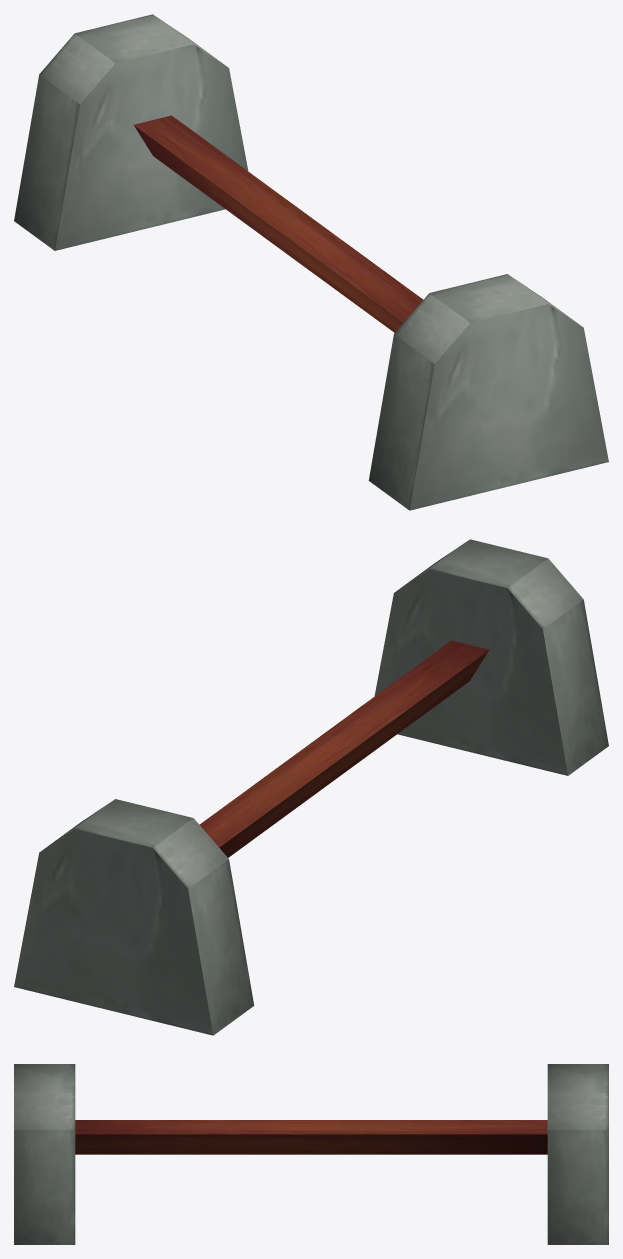
The model's file is szc_object_24dunzi.FBX.
3 views of the same model, one above another, from view 1: azimuth 30°, elevation 25°; view 2: azimuth 150°, elevation 25°; view 3: azimuth 270°, elevation 25° (orthographic). The views are drawn at different scales.
Parts seen in each view (by area): view 1: szc_object_24dunzi; view 2: szc_object_24dunzi; view 3: szc_object_24dunzi.
Part boxes in pixels (box(x1,y1,x2,y2)): szc_object_24dunzi: box(14, 14, 608, 510); szc_object_24dunzi: box(14, 539, 608, 1035); szc_object_24dunzi: box(14, 1064, 608, 1244).
Bounding box in the file's own units: 5.91 × 4.9 × 20.31.
